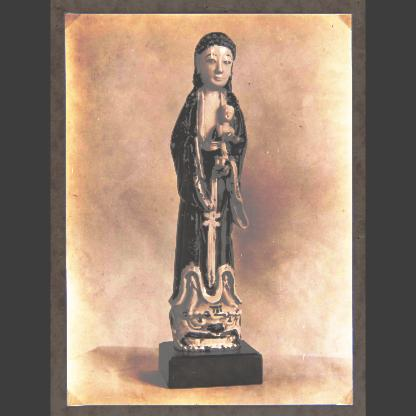buddha-standing: (171, 35, 251, 344)
